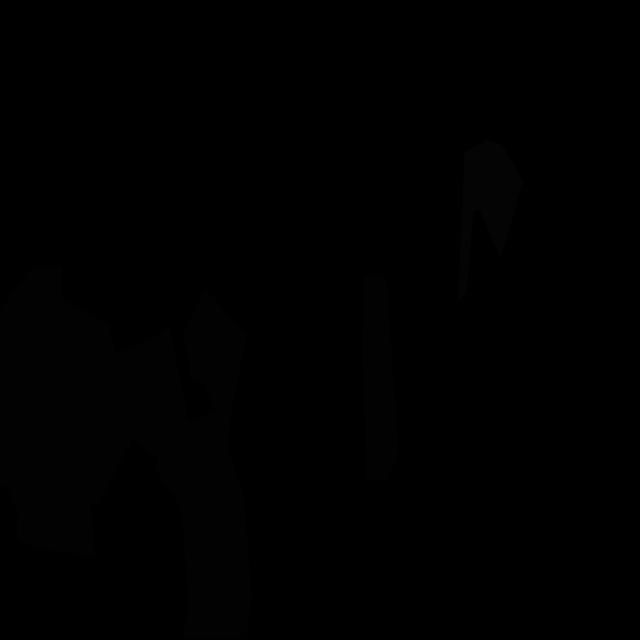cardboard: (0, 266, 189, 557), (156, 412, 252, 639), (182, 288, 247, 413), (362, 276, 399, 480)
soft_plastic: (458, 139, 523, 300)
